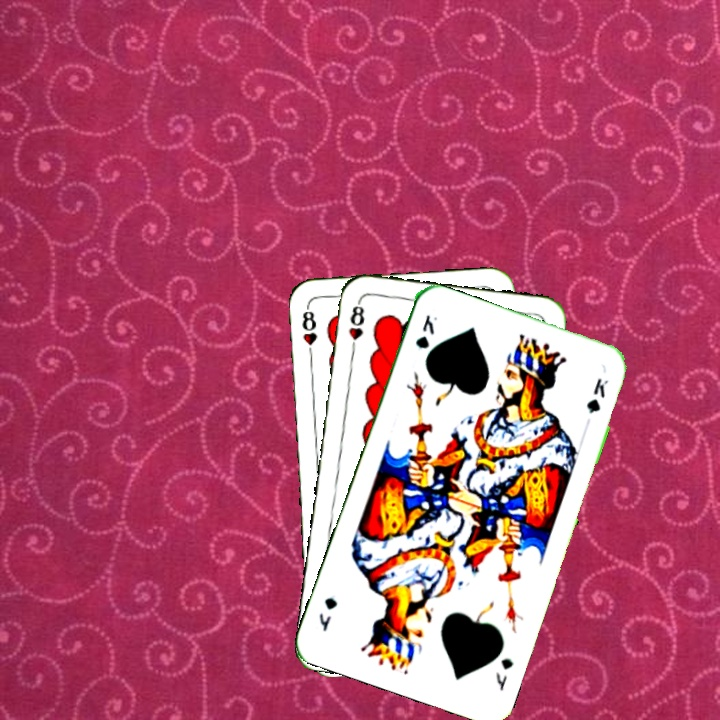GK: (411, 311, 437, 352), (491, 654, 516, 694)
H8: (297, 302, 319, 361), (345, 297, 367, 356)
